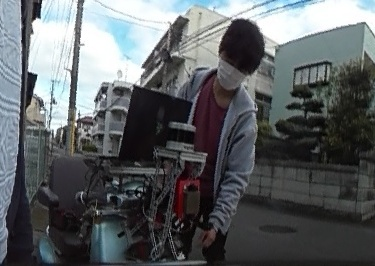person: (170, 17, 267, 266)
